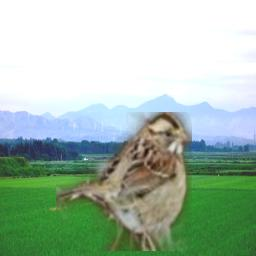Sparrow: (56, 112, 192, 251)
